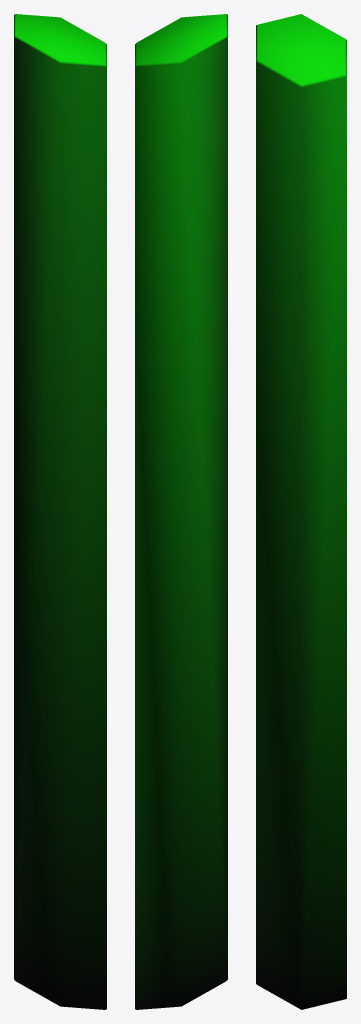
Rendered from SM_RockHexic_Piece10.fbx.
The picture shows the model from 3 angles, left to right: view 1: azimuth 30°, elevation 25°; view 2: azimuth 210°, elevation 25°; view 3: azimuth 330°, elevation 25°; orthographic projection. The views are drawn at different scales.
Visible parts, largest first — view 1: SM_RockHexic_Piece10; view 2: SM_RockHexic_Piece10; view 3: SM_RockHexic_Piece10.
Boxes of the visible parts, x1=… form: SM_RockHexic_Piece10: x1=14, y1=14, x2=106, y2=1009; SM_RockHexic_Piece10: x1=135, y1=14, x2=227, y2=1009; SM_RockHexic_Piece10: x1=256, y1=14, x2=346, y2=1009.
Bounding box in the file's own units: 360 × 312 × 3609.
